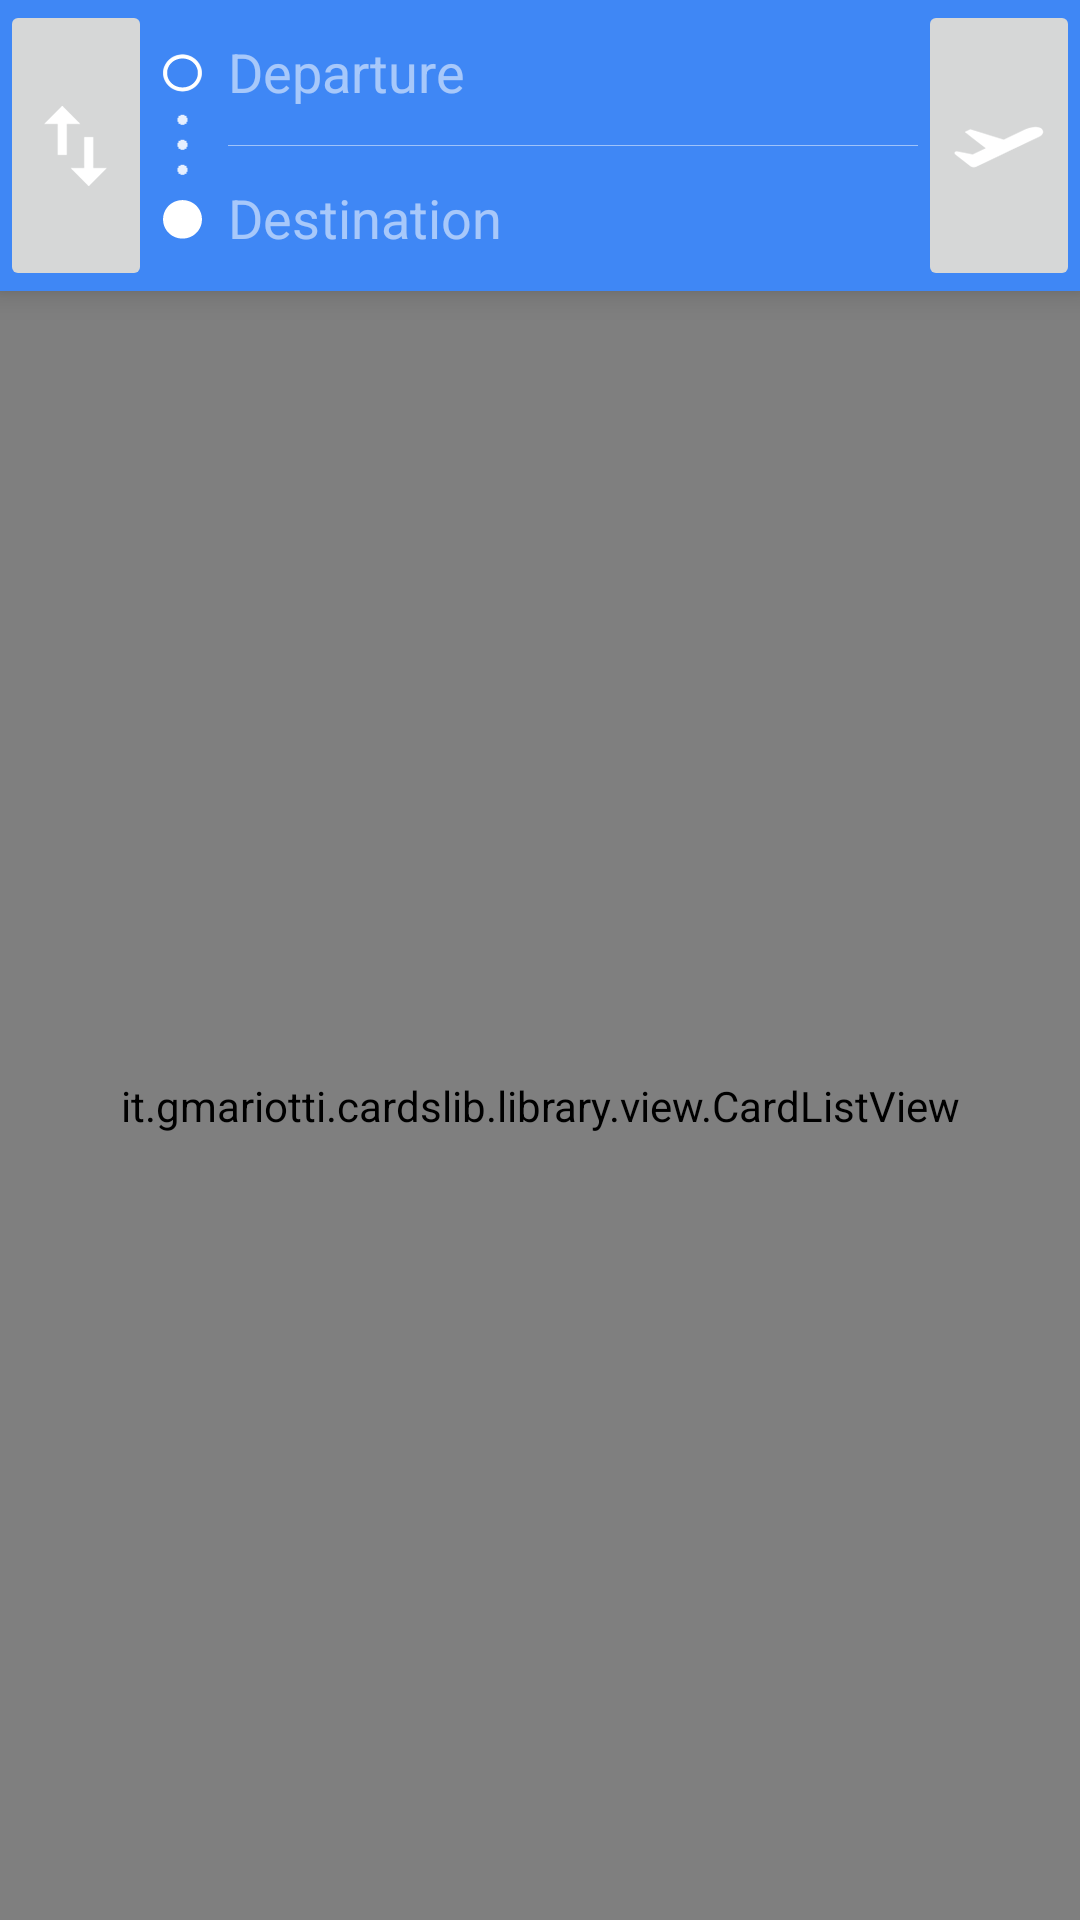

Screen size 1080*1920. Icon name, then its box in pixels as rect(x1, y1, x2, y2):
fly: rect(930, 18, 1068, 273)
swap: rect(12, 18, 140, 273)
